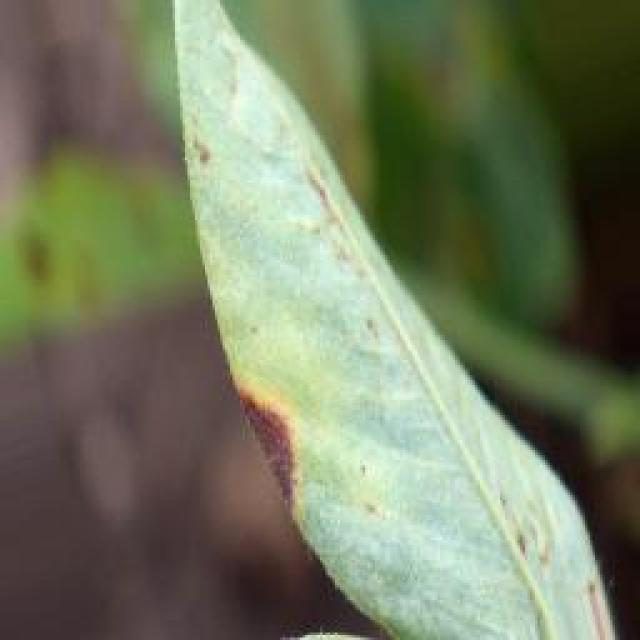Early_leaf_spot: (216, 358, 301, 514), (481, 505, 558, 588), (296, 168, 361, 258), (575, 570, 640, 640), (182, 128, 219, 180)
